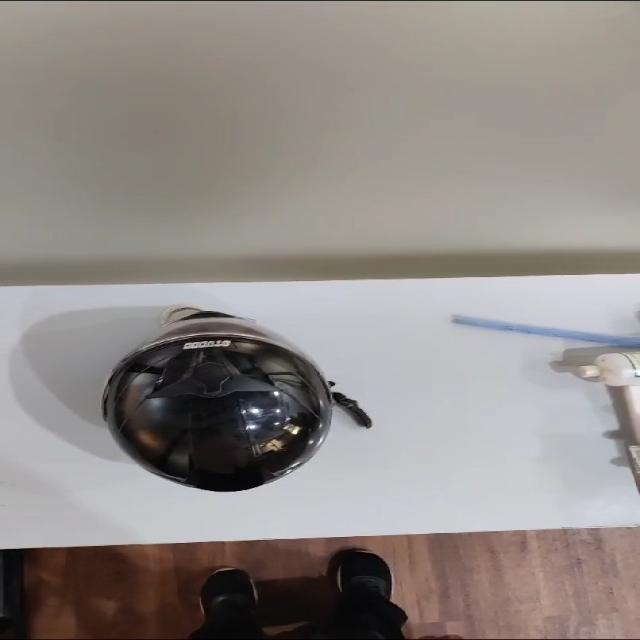helmet: (103, 308, 370, 491)
